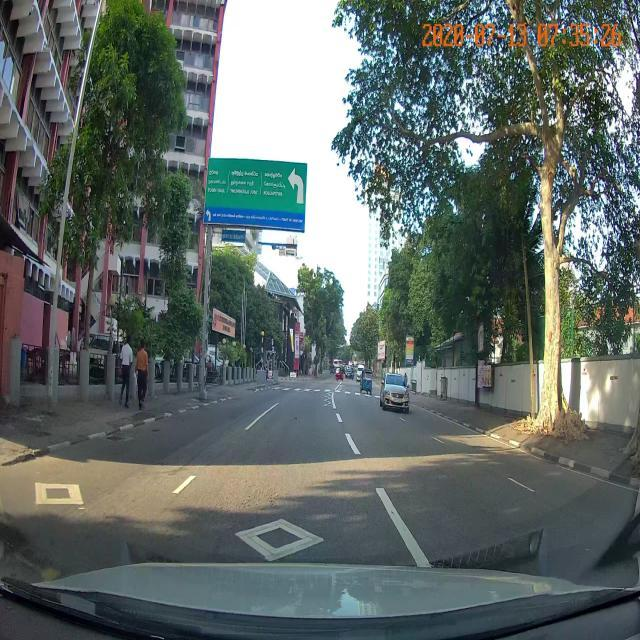diamond: (104, 487, 431, 565)
